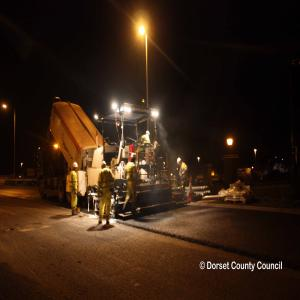white: (131, 153, 137, 163), (102, 161, 108, 170), (74, 163, 79, 172), (178, 158, 183, 167), (147, 131, 151, 137)
